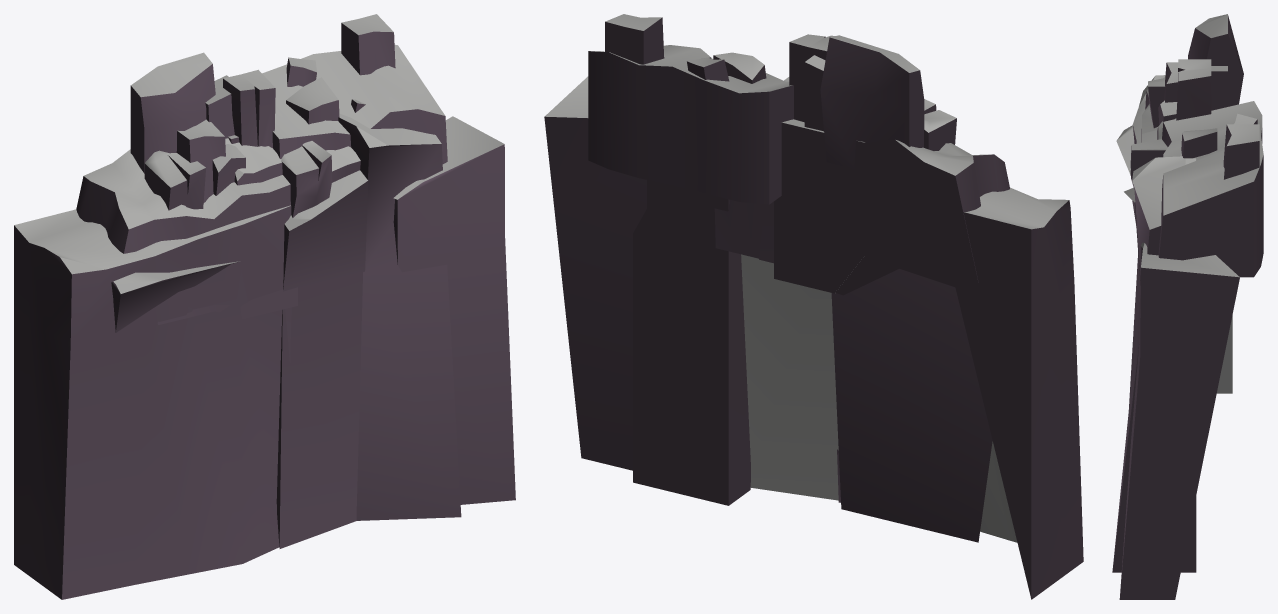
The model's file is env01_cliff_left01.FBX.
The picture shows the model from 3 angles, left to right: view 1: azimuth 30°, elevation 25°; view 2: azimuth 150°, elevation 25°; view 3: azimuth 270°, elevation 25°; orthographic projection. The views are drawn at different scales.
Parts seen in each view (by area): view 1: env01_cliff_left01; view 2: env01_cliff_left01; view 3: env01_cliff_left01.
Boxes of the visible parts, left/top/right/bottom form: env01_cliff_left01: left=14, top=14, right=515, bottom=599; env01_cliff_left01: left=544, top=14, right=1083, bottom=599; env01_cliff_left01: left=1112, top=14, right=1263, bottom=599.
Bounding box in the file's own units: 969 × 980 × 300.
